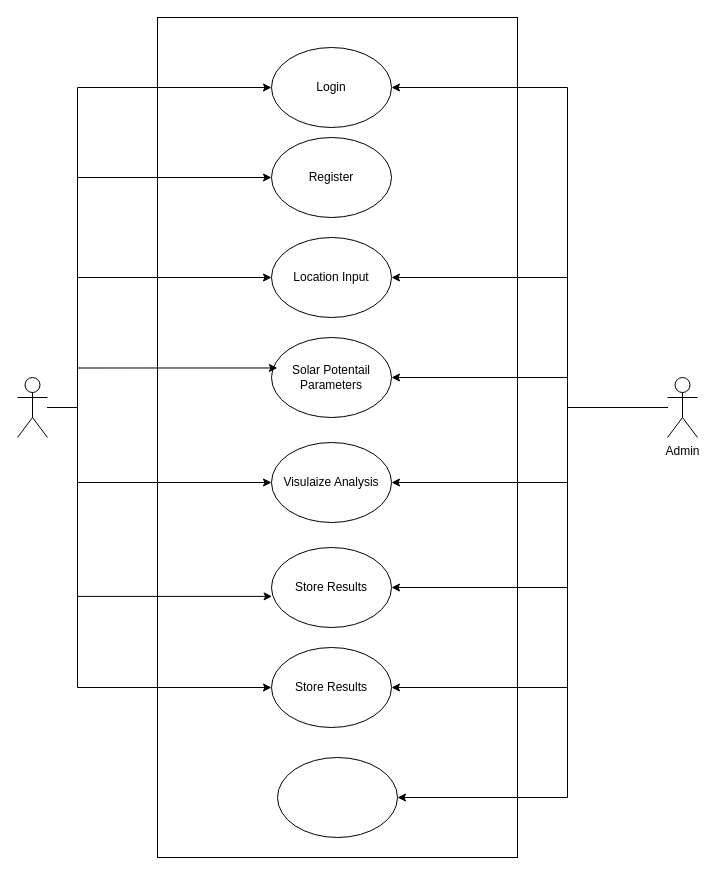
The diagram is 717 pixels wide and 875 high, and some of its shapes have lost their labels. The centre of each missing label's shape, as x and y in pixels:
System Managment: point (337, 797)
USer: point (32, 407)
